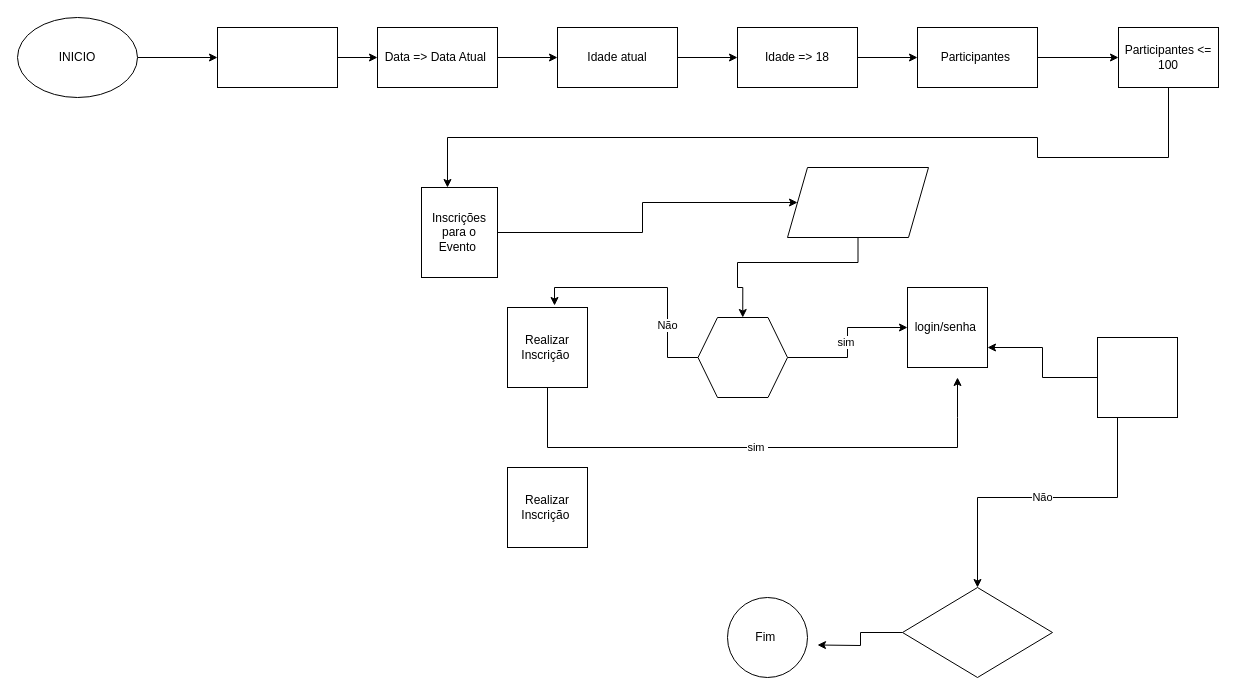
Image size: 1236x695. Some labels were removed from this diagram. Each missing label, with the centre of its shape:
"Data do Evento a informar" belongs at (x=277, y=57).
"Inscrição Efetuada" belongs at (x=977, y=632).
"Possui Cadastro" belongs at (x=742, y=357).
"Realizar Inscrição do Evento" belongs at (x=857, y=202).
"Recuperar login e senha" belongs at (x=1137, y=377).
